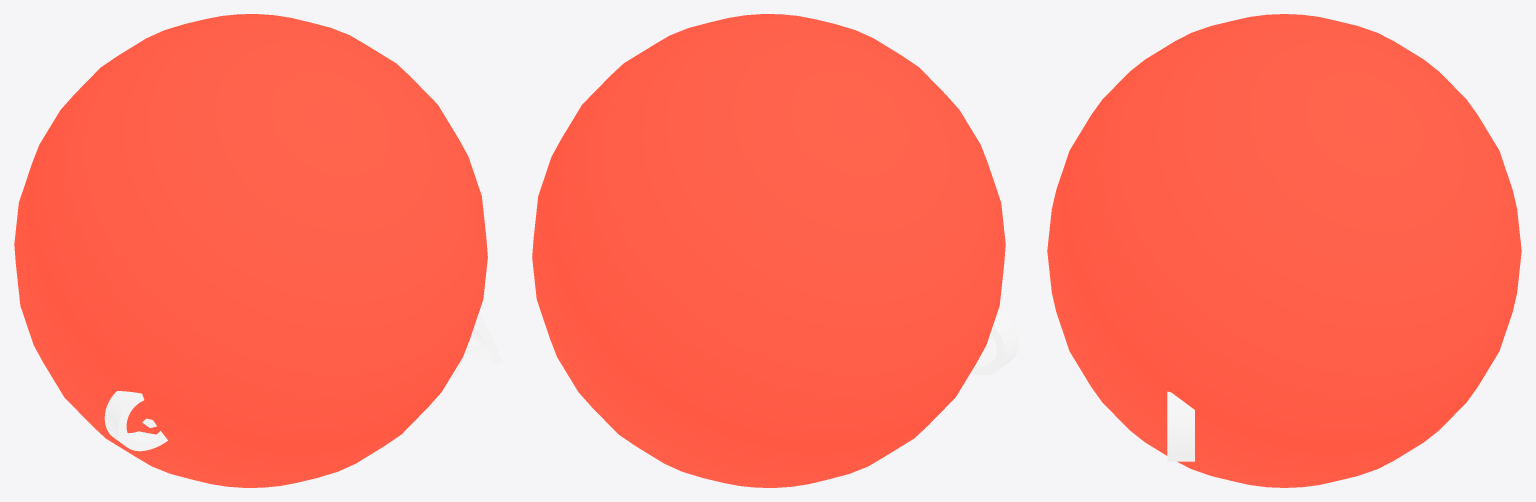
The model's file is gasolina.glb.
3 views of the same model, side by side, from view 1: azimuth 30°, elevation 25°; view 2: azimuth 150°, elevation 25°; view 3: azimuth 270°, elevation 25° (orthographic).
Visible parts, largest first — view 1: Sphere.013, Text.015; view 2: Sphere.013, Text.015; view 3: Sphere.013, Text.015.
Part boxes in pixels (box(x1,y1,x2,y2)): Sphere.013: box(14, 14, 487, 487); Text.015: box(104, 312, 503, 451); Sphere.013: box(532, 14, 1005, 487); Text.015: box(971, 309, 1018, 375); Sphere.013: box(1047, 14, 1521, 487); Text.015: box(1167, 391, 1194, 461).
Bounding box in the file's own units: 5.15 × 5.15 × 5.15.
